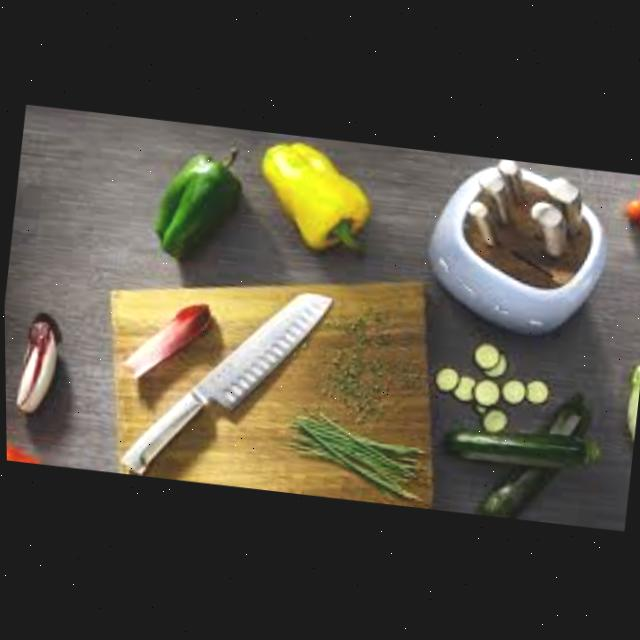Knife: (116, 271, 338, 495)
